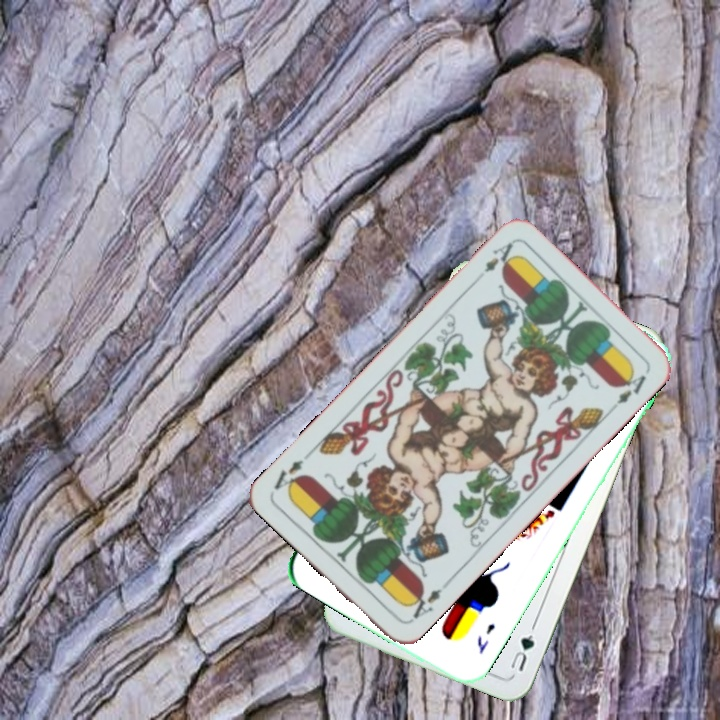EA: (403, 584, 445, 625), (481, 238, 518, 275)
EK: (472, 619, 498, 657)
GU: (506, 630, 537, 674)
